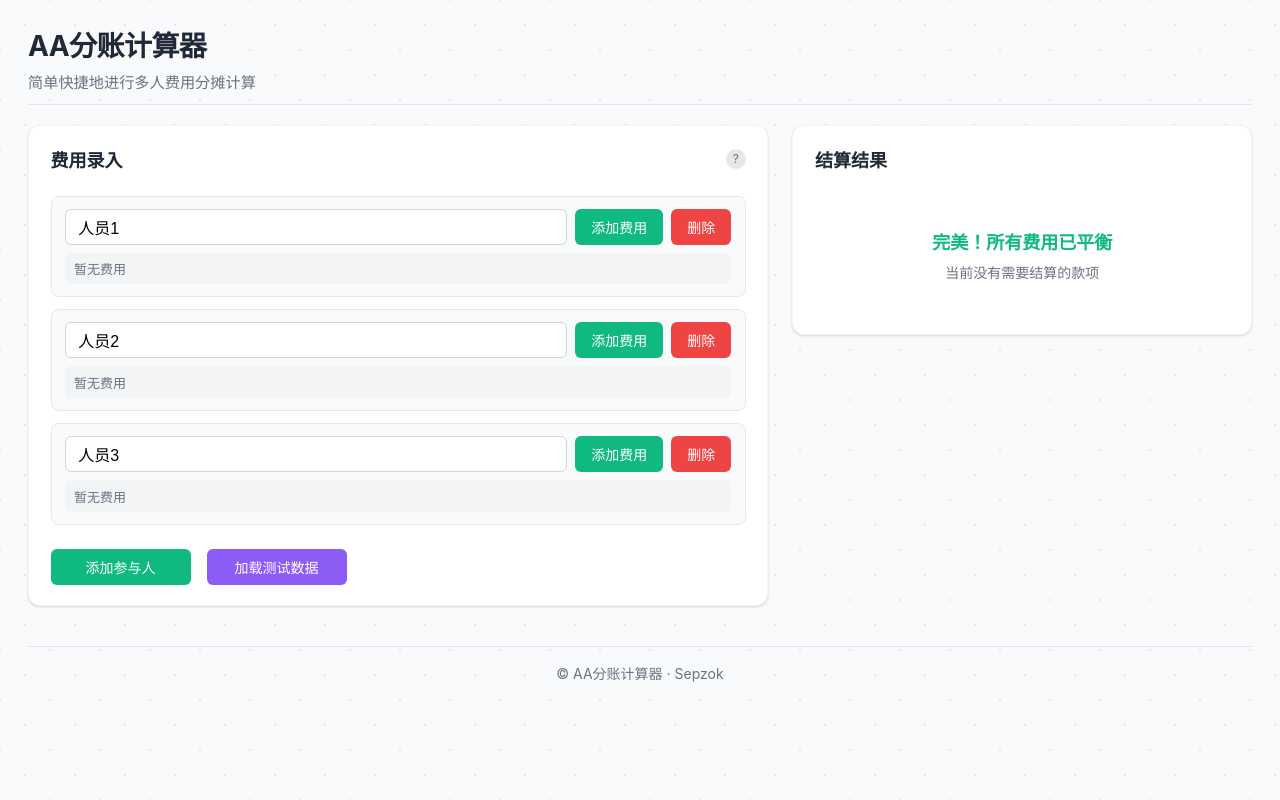
Test case: AA分账计算器详细功能测试 › 测试删除费用功能
Note: 为第一个参与人添加费用
Click the 1st button with class "add-expense-btn" at (619, 227), box [575, 209, 663, 245]
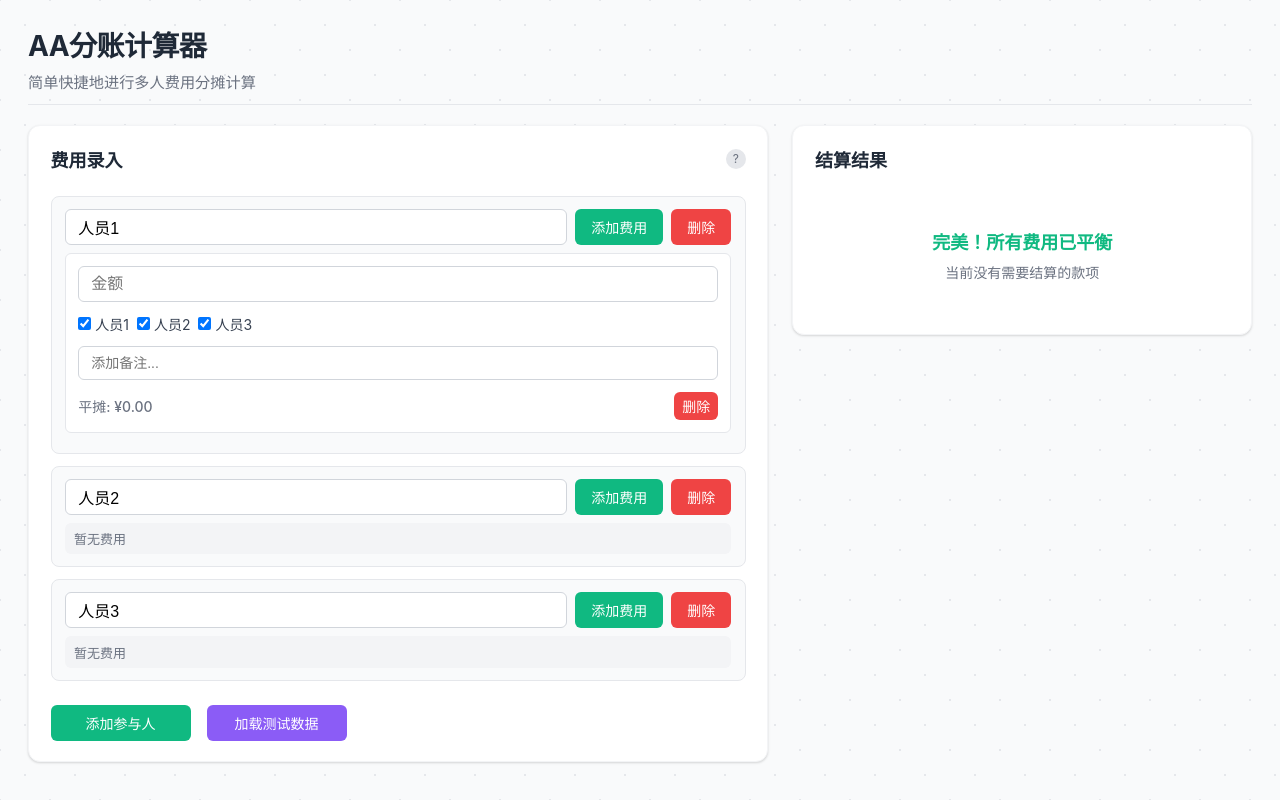
Type "100" into the number field with class "expense-amount" at (398, 284), box [78, 266, 718, 302]
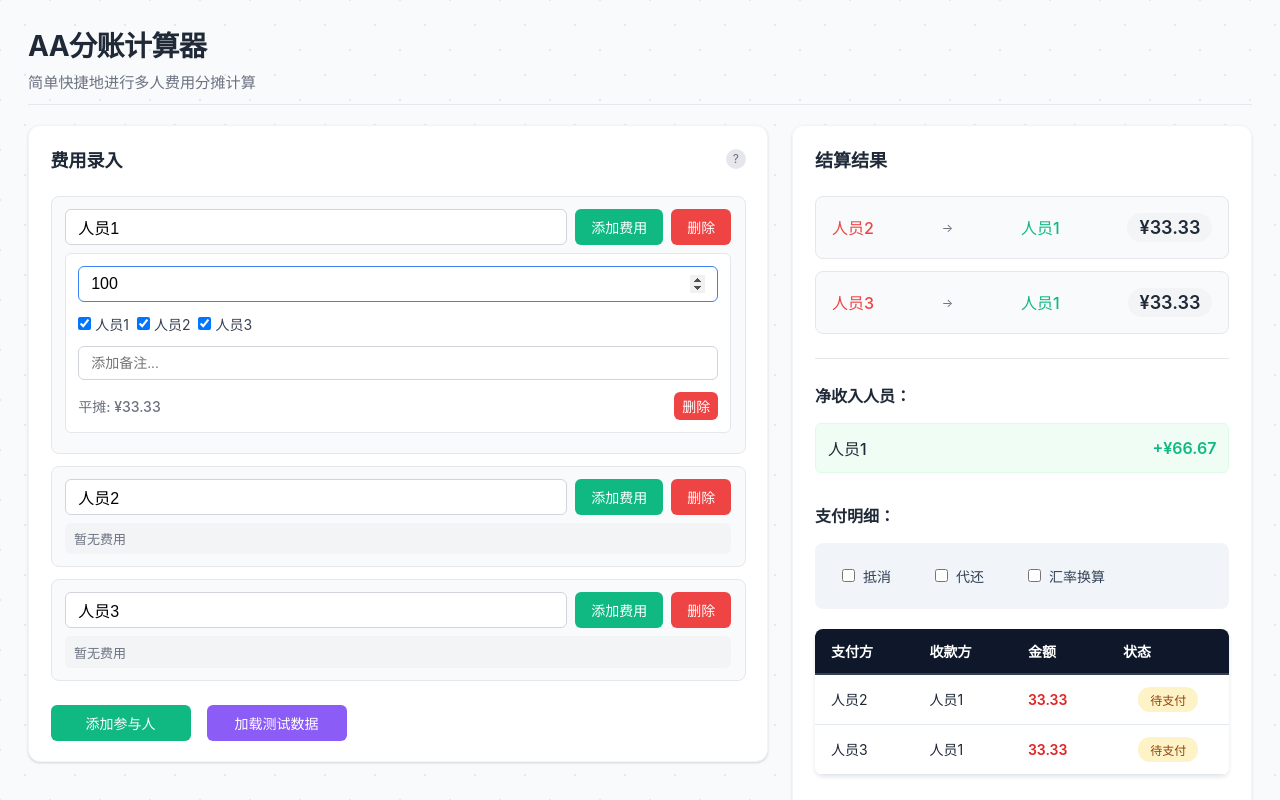
Result: the element with class "expense-item" is shown at [65, 253, 731, 433]
Note: 点击删除费用按钮
Click the button with class "delete-expense-btn" at (696, 406), box [674, 392, 718, 420]
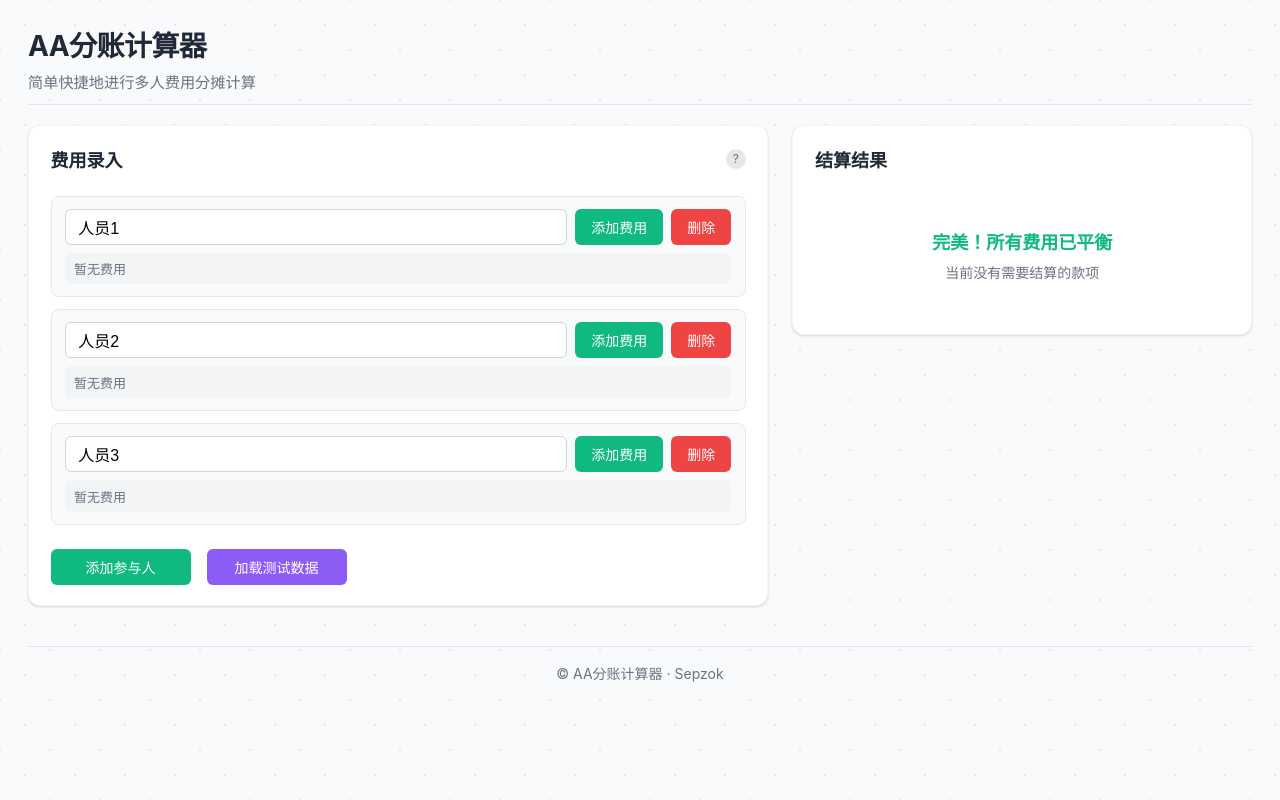
Result: the element with class "expense-item" is gone
